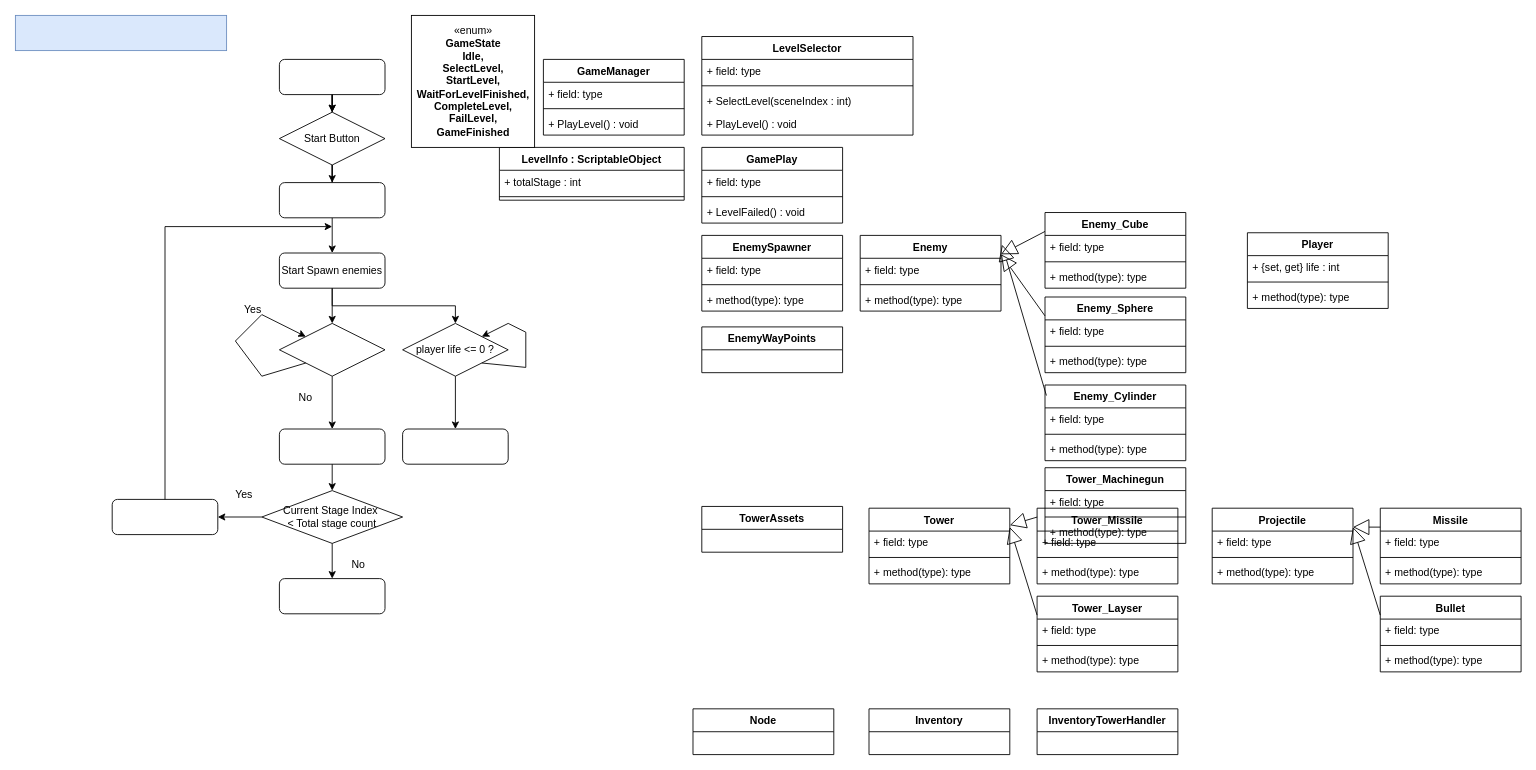
Image size: 1536x770. Some labels were removed from this diagram. Each missing label, with the centre of its shape:
are enemies exist: point 332,349
First Stage: point 332,200
Level completed: point 332,596
Level failed: point 455,446
Next Stage: point 164,517
Select Level: point 332,77
Stage completed: point 332,446
Tower Defence Logic: point 121,33
